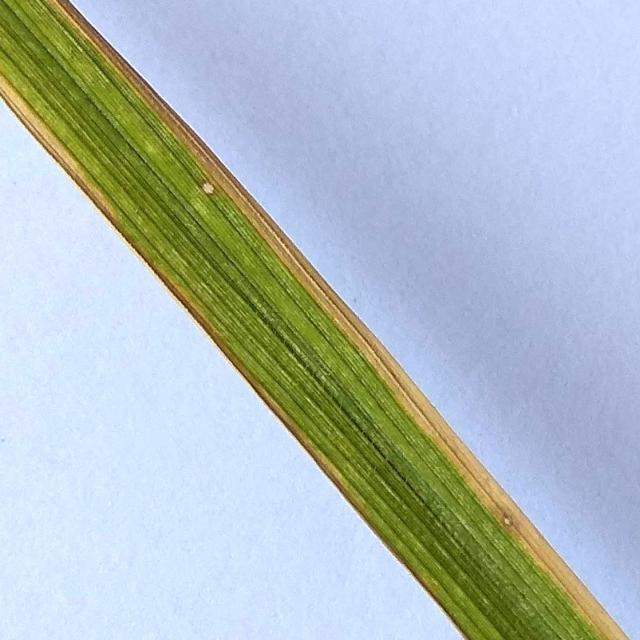Blast: (200, 178, 224, 202), (498, 508, 520, 534)
